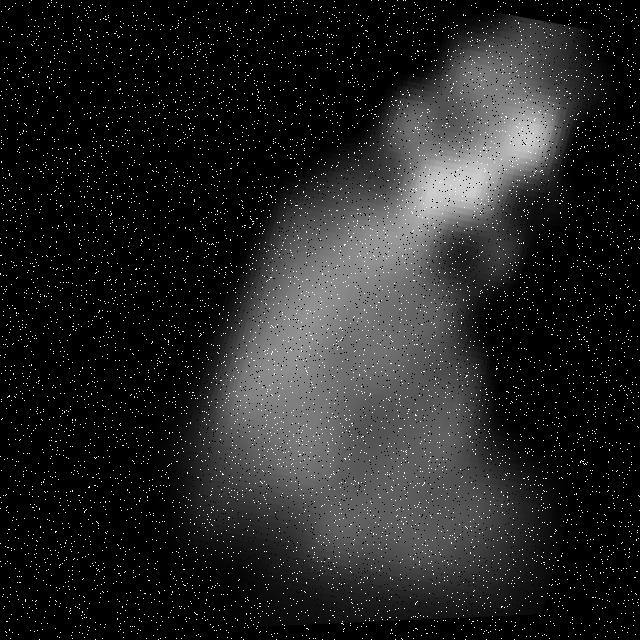person: (130, 1, 640, 636)
